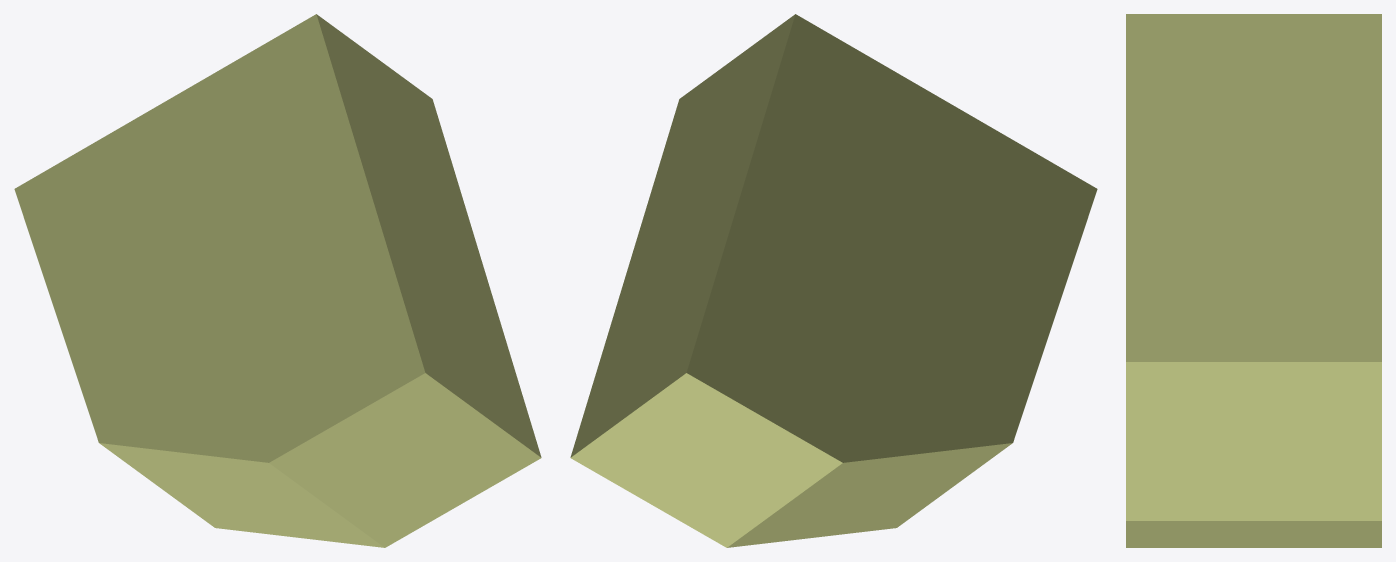
3 renders of one model, left to right at view 1: azimuth 30°, elevation 25°; view 2: azimuth 150°, elevation 25°; view 3: azimuth 270°, elevation 25°, orthographic. The views are drawn at different scales.
Parts seen in each view (by area): view 1: 0_1_3_2_2_2_2_0_1; view 2: 0_1_3_2_2_2_2_0_1; view 3: 0_1_3_2_2_2_2_0_1.
Part boxes in pixels (x1,y1,x2,y2): 0_1_3_2_2_2_2_0_1: (14, 14, 541, 547); 0_1_3_2_2_2_2_0_1: (570, 14, 1097, 547); 0_1_3_2_2_2_2_0_1: (1126, 14, 1381, 547).
Size of the model in its own units: 12.26 by 12.46 by 6.
